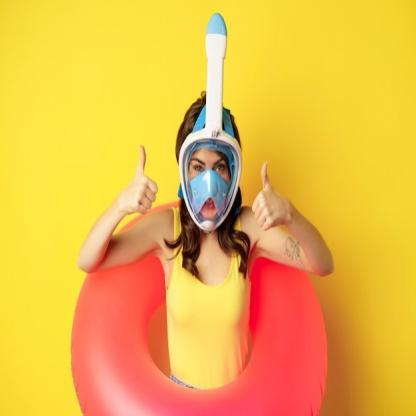thumb_up: (121, 142, 160, 218), (250, 156, 288, 232)
